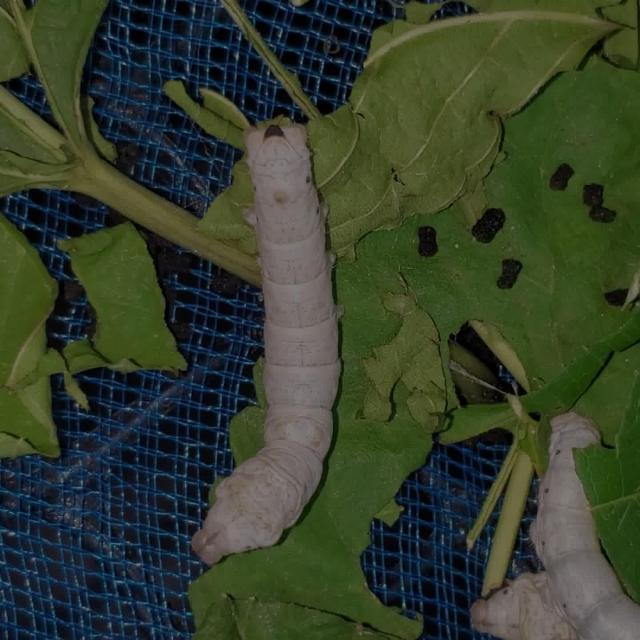Healthy: (186, 112, 346, 569)
